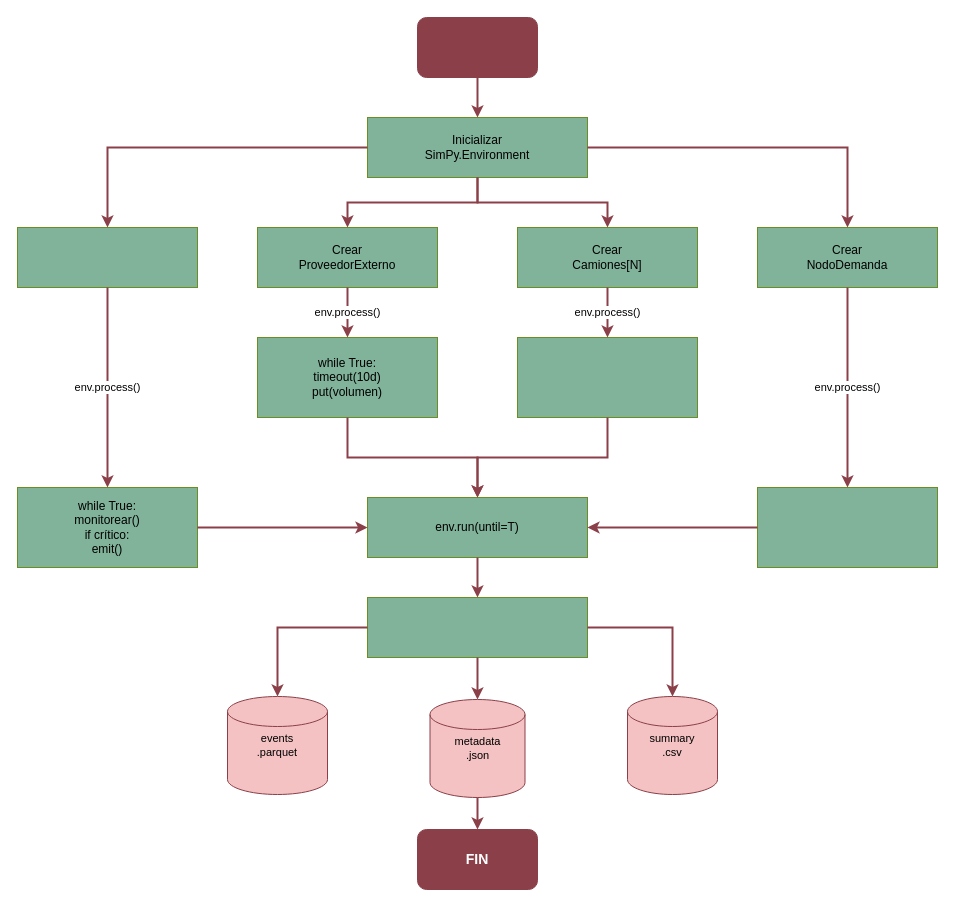
Image size: 955x907. Some labels were removed from this diagram. Each missing label, with the centre of its shape:
"Crear PlantaAlmacenamiento" goes at (107,257).
"INICIO" goes at (477,47).
"Recolectar Métricas" goes at (477,627).
"while True: carga() viaje() descarga()" goes at (607,377).
"while True: timeout(24h) get(demanda)" goes at (847,527).
